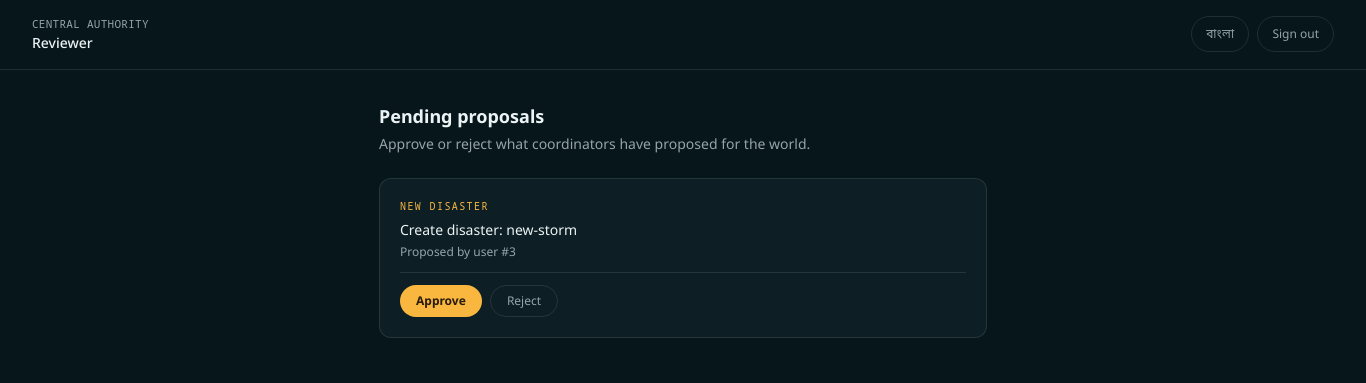
it: a failed reject shows an error and re-enables the buttons instead of getting stuck
Expected: the text "Create disaster: new-storm" is shown, [400,220,577,238]
Click the button "Reject" at (524, 300), box [490,284,558,316]
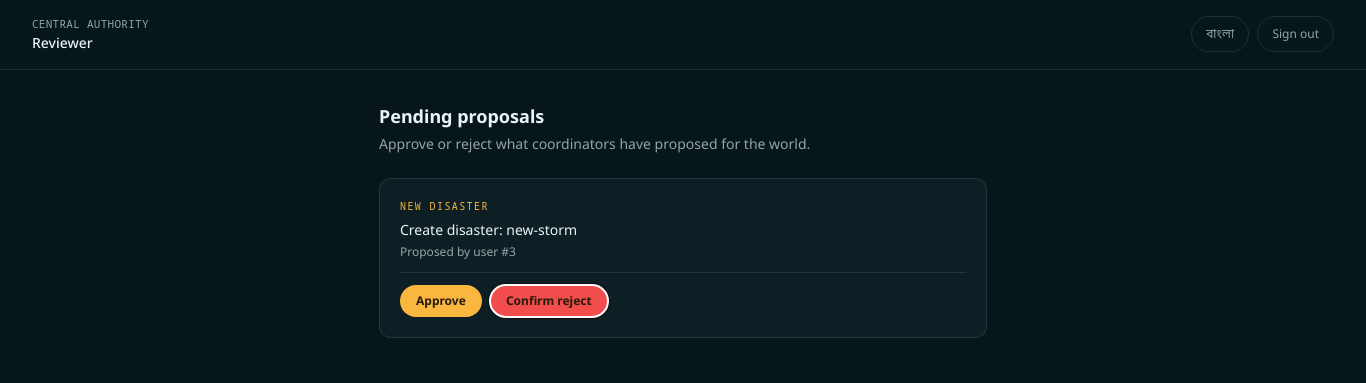
Click the button "Confirm reject" at (549, 300), box [490,284,608,316]
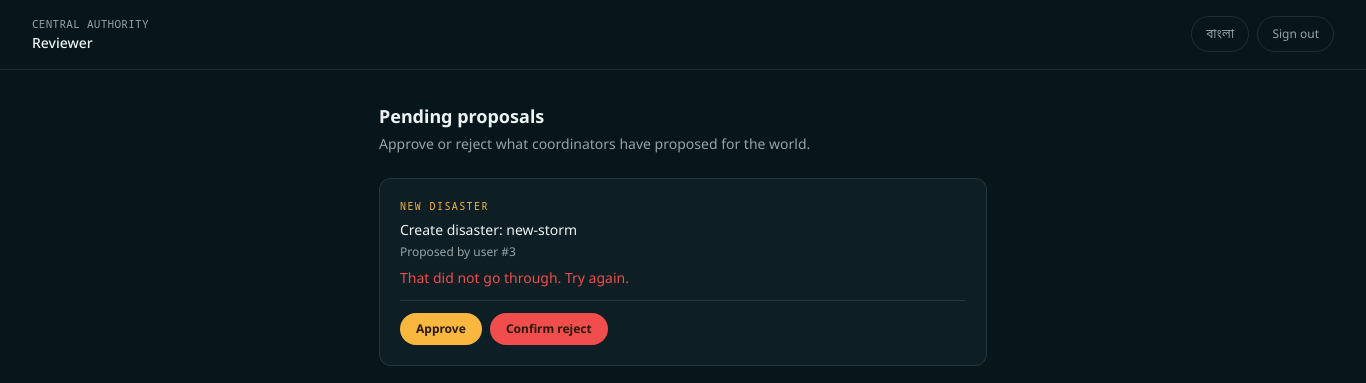
Expected: the button "Approve" is enabled, [400,312,482,344]
Result: the text "That did not go through. Try again." is shown at [400,268,629,286]
